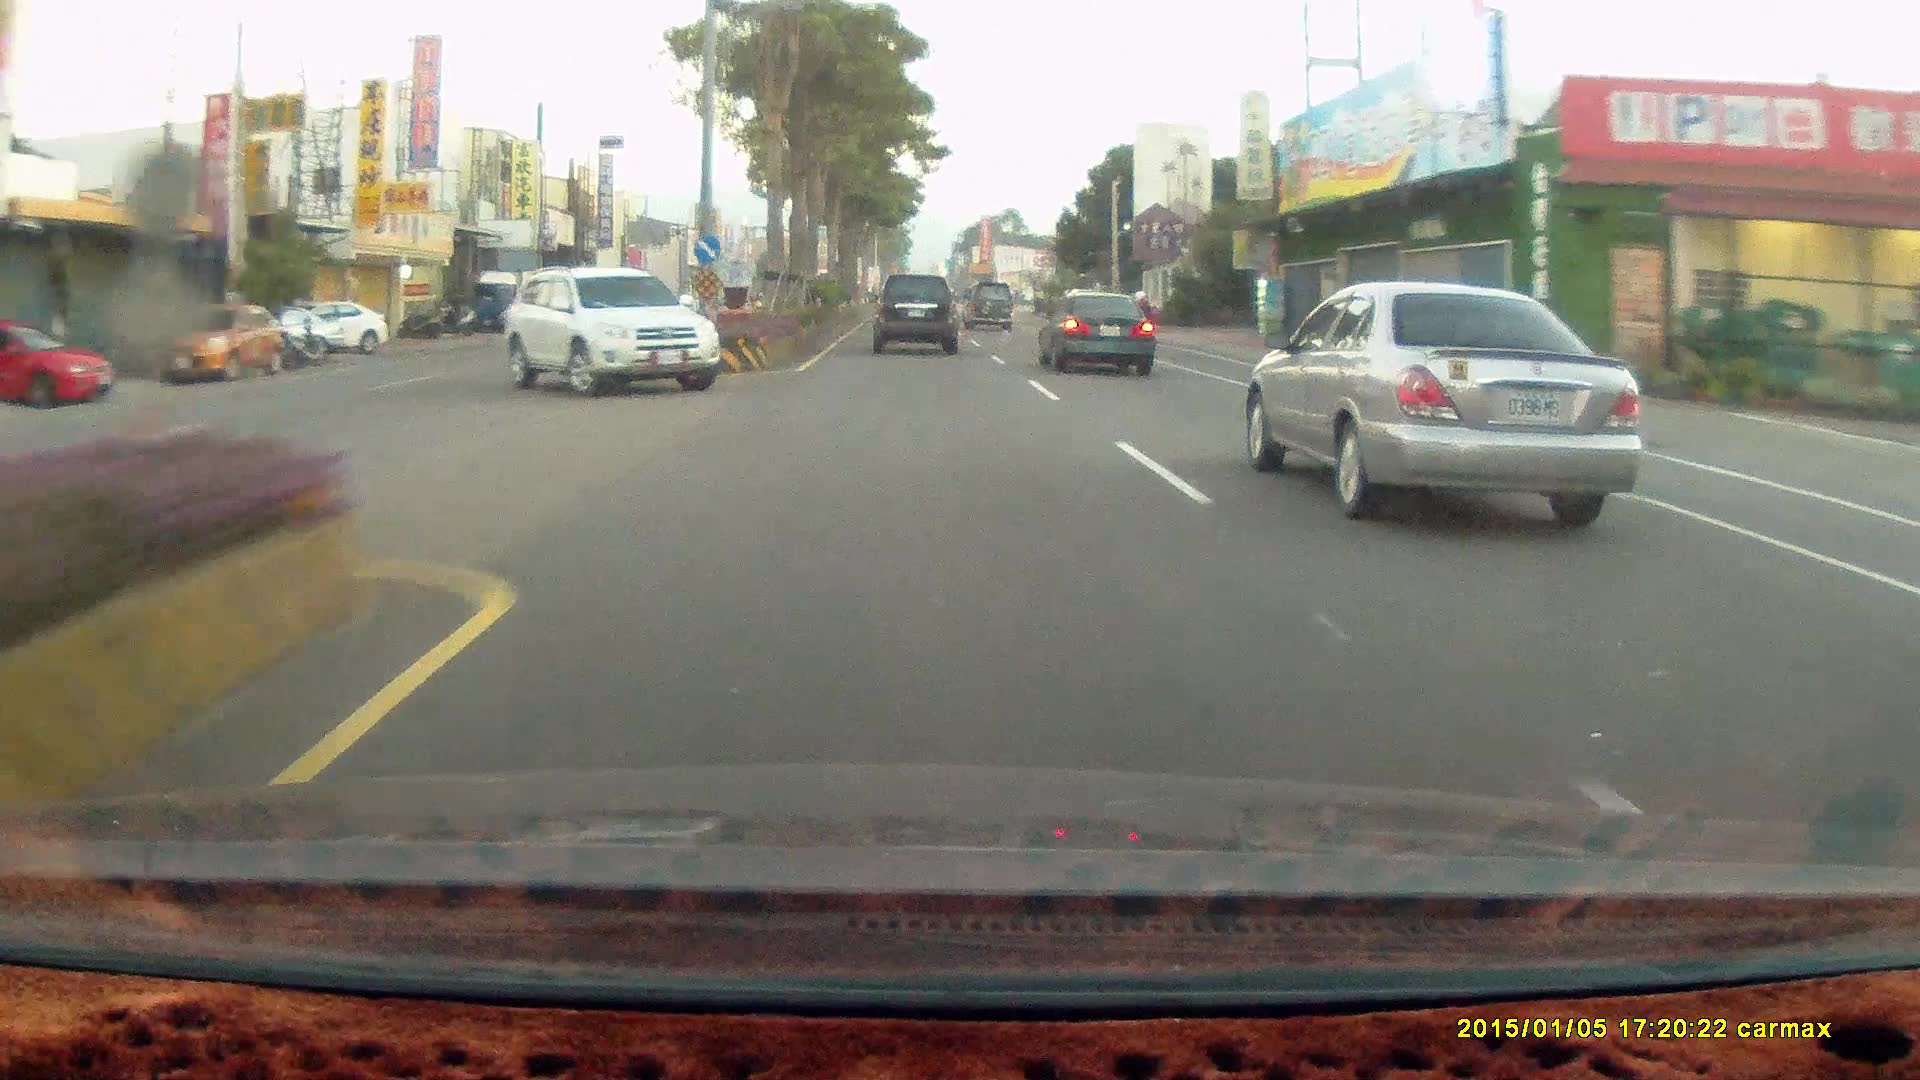vehicle: (1240, 277, 1642, 531), (496, 266, 724, 396), (500, 266, 723, 393), (146, 305, 285, 386), (149, 302, 285, 384), (1036, 289, 1155, 376), (1, 324, 113, 411), (1043, 295, 1156, 378), (872, 276, 967, 360), (872, 273, 956, 351), (272, 297, 389, 352), (274, 302, 392, 357), (960, 281, 1017, 335), (960, 280, 1015, 332)
